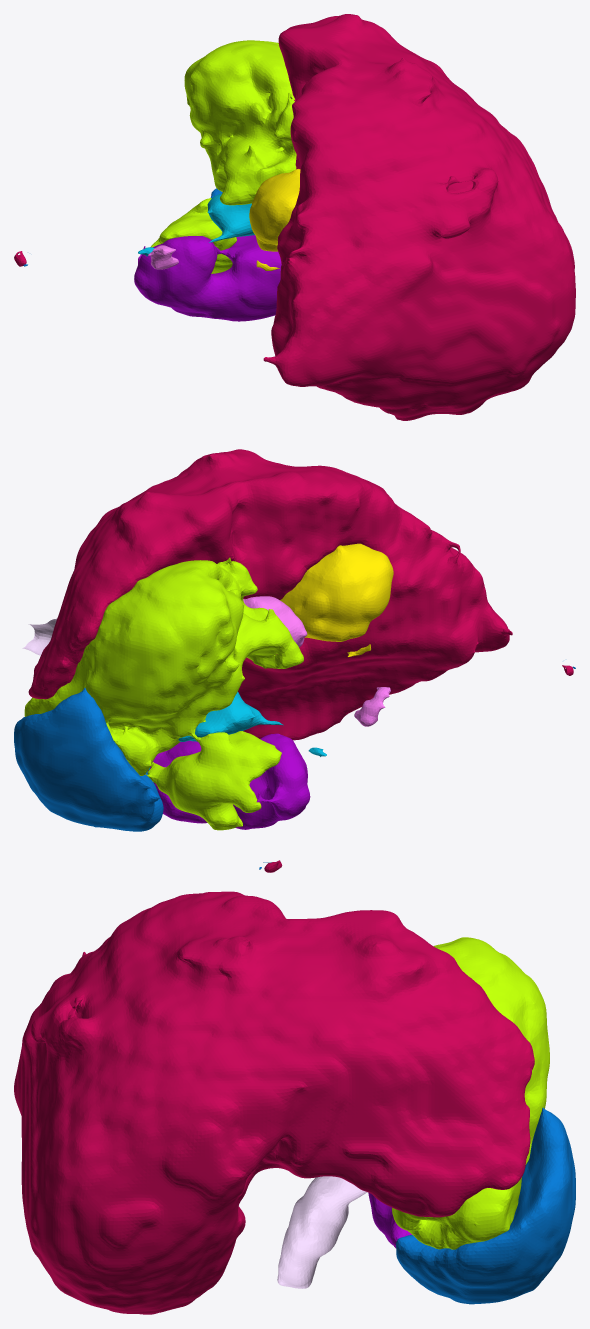
File: abdomen.glb
3 views of the same model, one above another, from view 1: azimuth 30°, elevation 25°; view 2: azimuth 150°, elevation 25°; view 3: azimuth 270°, elevation 25° (orthographic). The views are drawn at different scales.
Parts seen in each view (by area): view 1: geometry_4_7W5FEDFFERHU, geometry_5_8W5QQ7UXXWTC, geometry_1_5G4VLNADYMNT, geometry_2_5W4DCVME1WRS, geometry_6_9A5DQDDNDJZO, geometry_7_9Q49GHABBODS; view 2: geometry_4_7W5FEDFFERHU, geometry_5_8W5QQ7UXXWTC, geometry_0_5A5MHFZNRHNY, geometry_2_5W4DCVME1WRS, geometry_1_5G4VLNADYMNT, geometry_6_9A5DQDDNDJZO, geometry_7_9Q49GHABBODS, geometry_3_6A4WHAHDDXTM; view 3: geometry_4_7W5FEDFFERHU, geometry_0_5A5MHFZNRHNY, geometry_5_8W5QQ7UXXWTC, geometry_3_6A4WHAHDDXTM, geometry_1_5G4VLNADYMNT.
Boxes of the visible parts, x1,y1,x2,y2 form: geometry_4_7W5FEDFFERHU: (14,14,575,420); geometry_5_8W5QQ7UXXWTC: (150,40,296,273); geometry_1_5G4VLNADYMNT: (134,235,281,321); geometry_2_5W4DCVME1WRS: (249,169,300,270); geometry_6_9A5DQDDNDJZO: (138,193,254,256); geometry_7_9Q49GHABBODS: (148,245,178,269); geometry_4_7W5FEDFFERHU: (28,449,573,740); geometry_5_8W5QQ7UXXWTC: (24,557,303,830); geometry_0_5A5MHFZNRHNY: (14,666,575,831); geometry_2_5W4DCVME1WRS: (280,543,393,656); geometry_1_5G4VLNADYMNT: (148,733,310,829); geometry_6_9A5DQDDNDJZO: (148,691,326,769); geometry_7_9Q49GHABBODS: (243,596,390,726); geometry_3_6A4WHAHDDXTM: (22,618,56,655); geometry_4_7W5FEDFFERHU: (14,860,534,1314); geometry_0_5A5MHFZNRHNY: (259,862,575,1304); geometry_5_8W5QQ7UXXWTC: (392,937,549,1249); geometry_3_6A4WHAHDDXTM: (277,1176,367,1288); geometry_1_5G4VLNADYMNT: (368,1192,411,1248).
Size of the model in its own units: 175 by 97.23 by 135.
